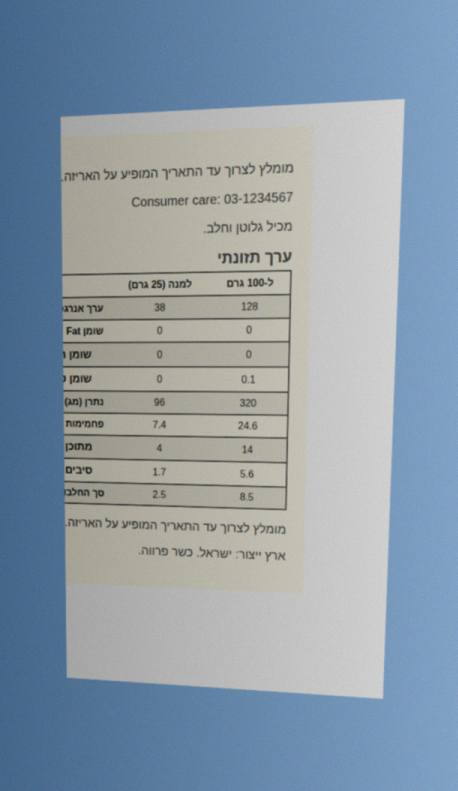carbs: (237, 419, 259, 433)
energy: (240, 299, 259, 313)
fat: (245, 323, 253, 337)
protein: (238, 490, 255, 504)
